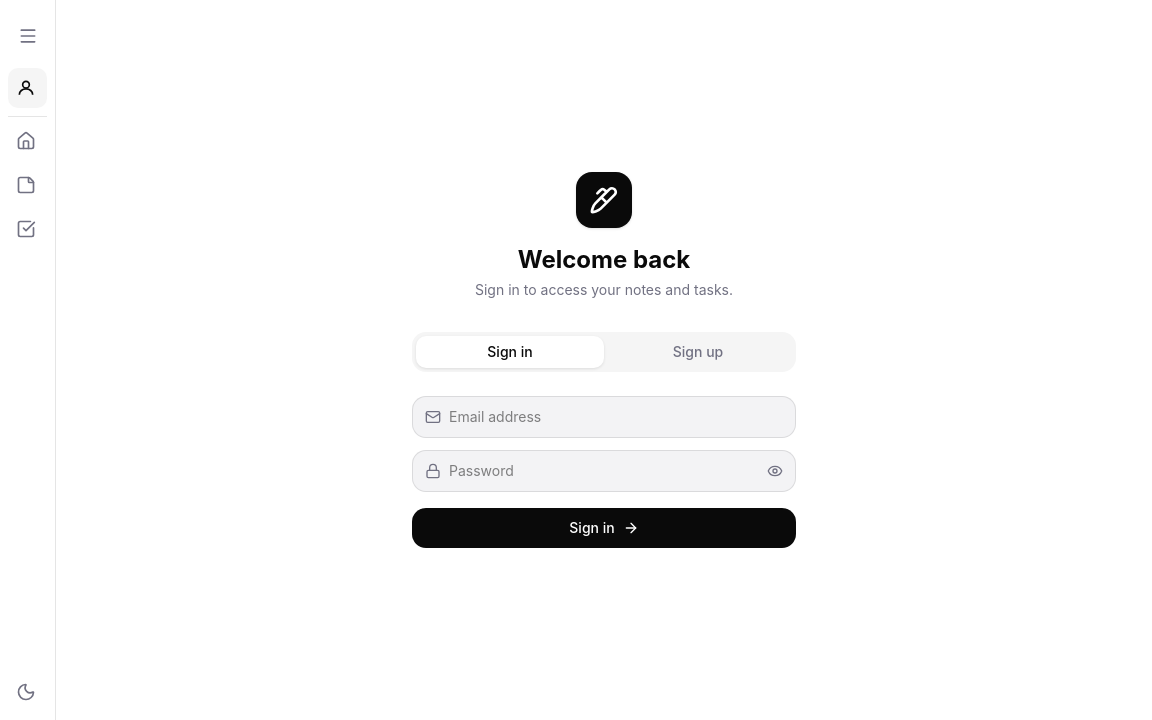
Test: account screen path › lets a user sign in, view account details, and sign out
Expected: the heading "Welcome back" is shown, [518,245,690,274]
In the field with placeholder "Email address": {"x": 616, "y": 417} [449,397,783,437], type "chat@gmail.com"
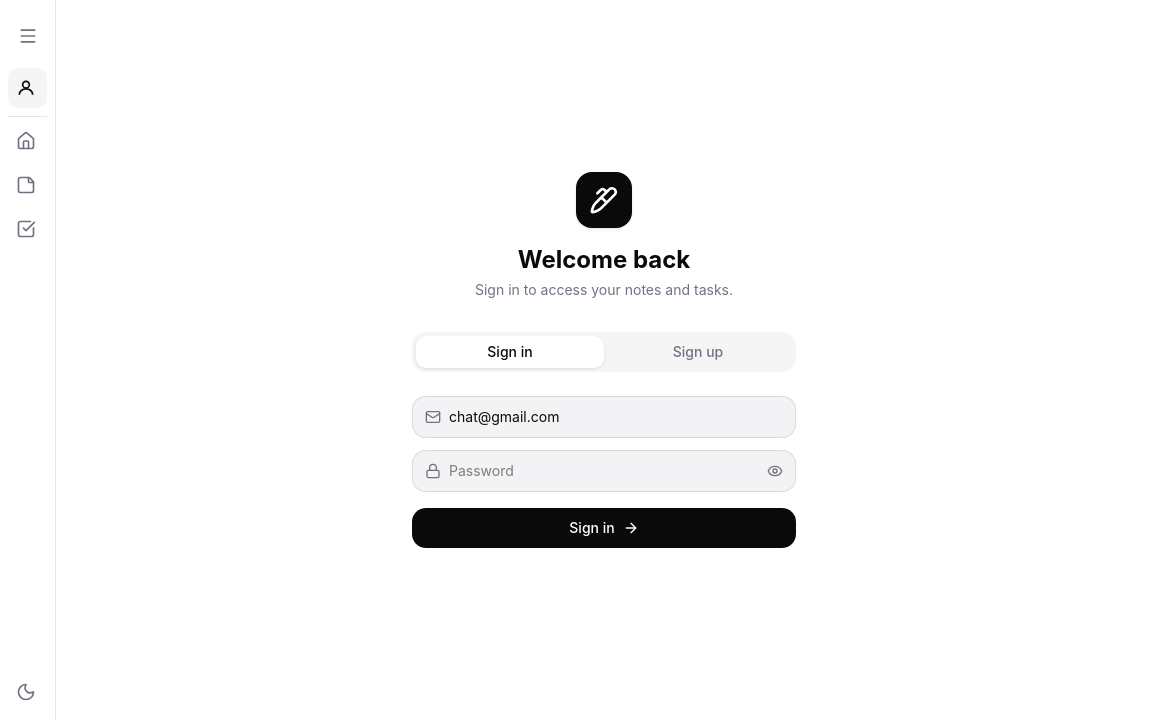
In the password field with placeholder "Password": {"x": 604, "y": 471} [449,451,759,491], type "chatchat"
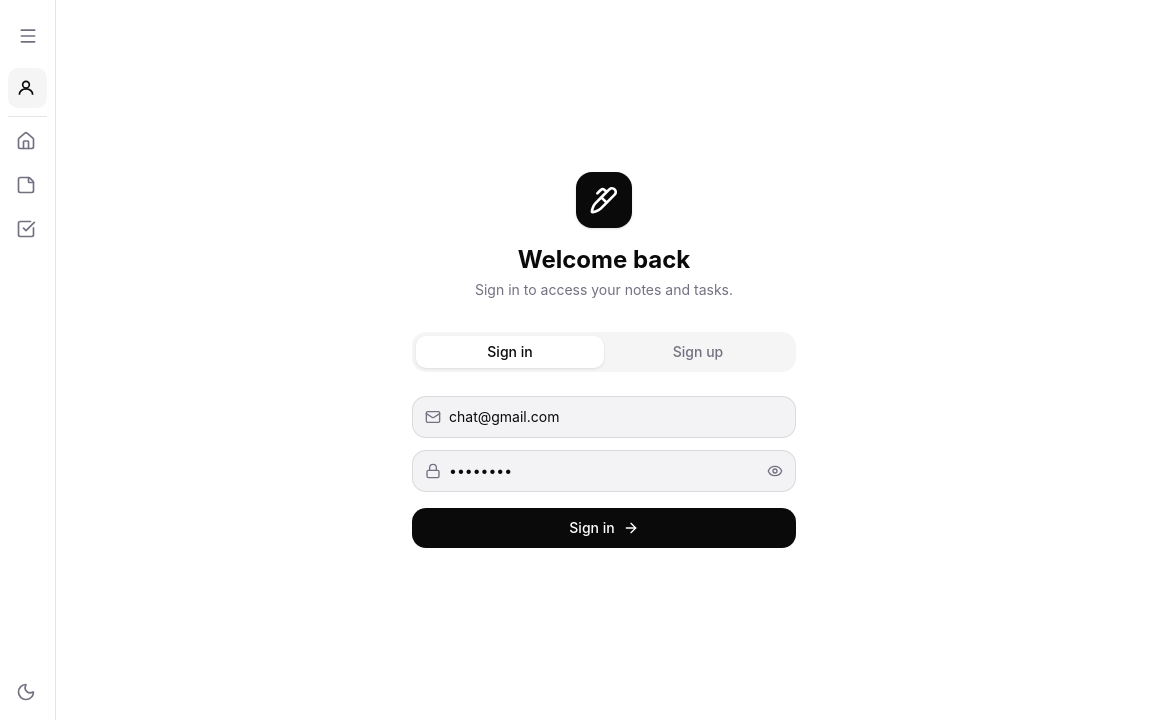
Click the submit button: {"x": 604, "y": 528} [412,508,796,548]
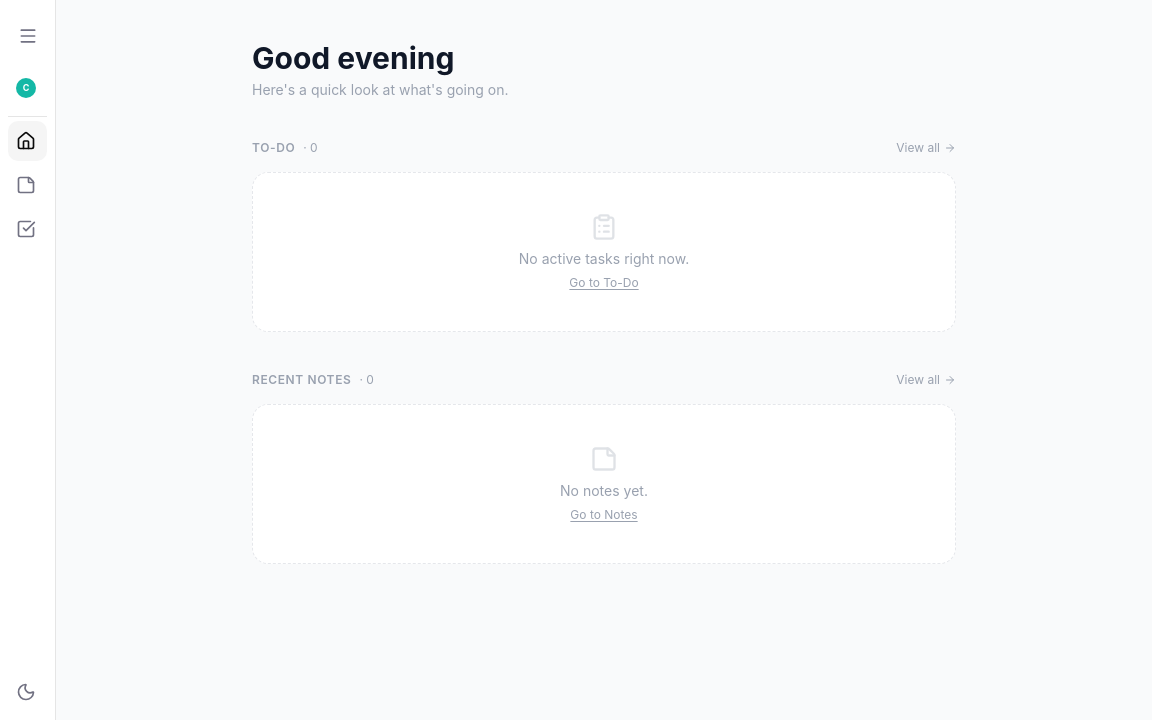
Result: the text "Here's a quick look at what's going on." is shown at [252,81,508,98]
Open "http://localhost:5173/account"
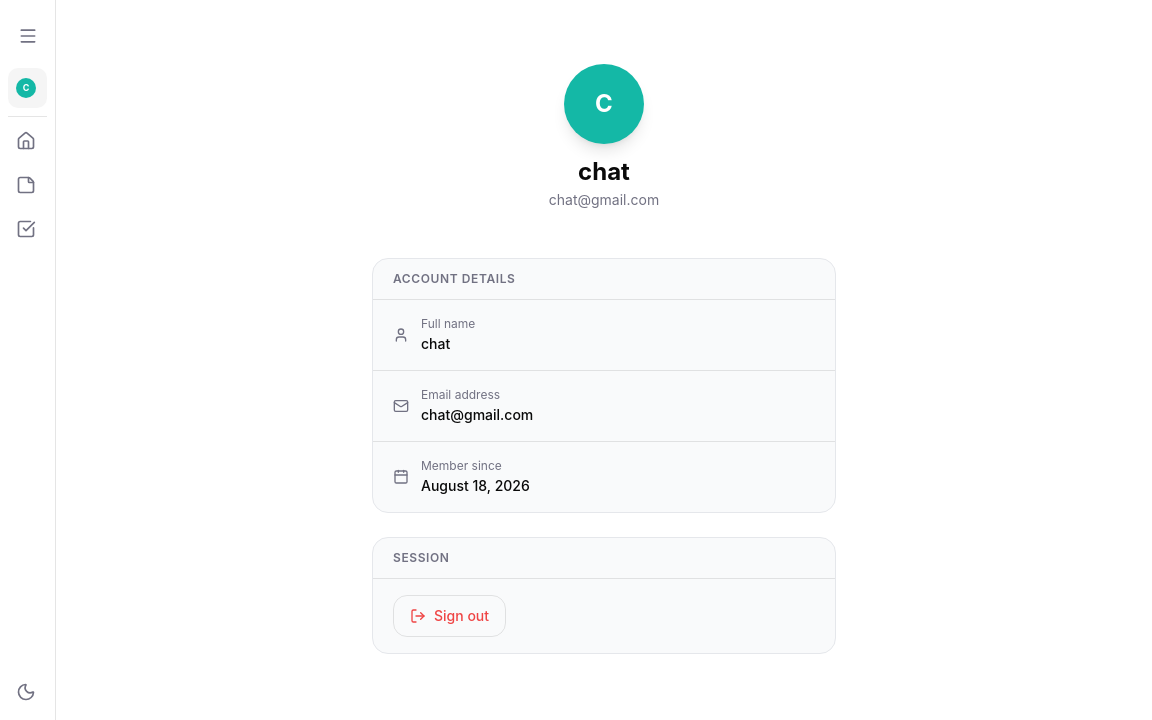
Result: the heading "Account Details" is shown at [393,271,516,286]
Result: the heading "chat" is shown at [578,157,630,186]
Result: the 1st text "chat@gmail.com" is shown at [549,190,659,210]
Click the button "Sign out": {"x": 450, "y": 616} [393,595,506,637]
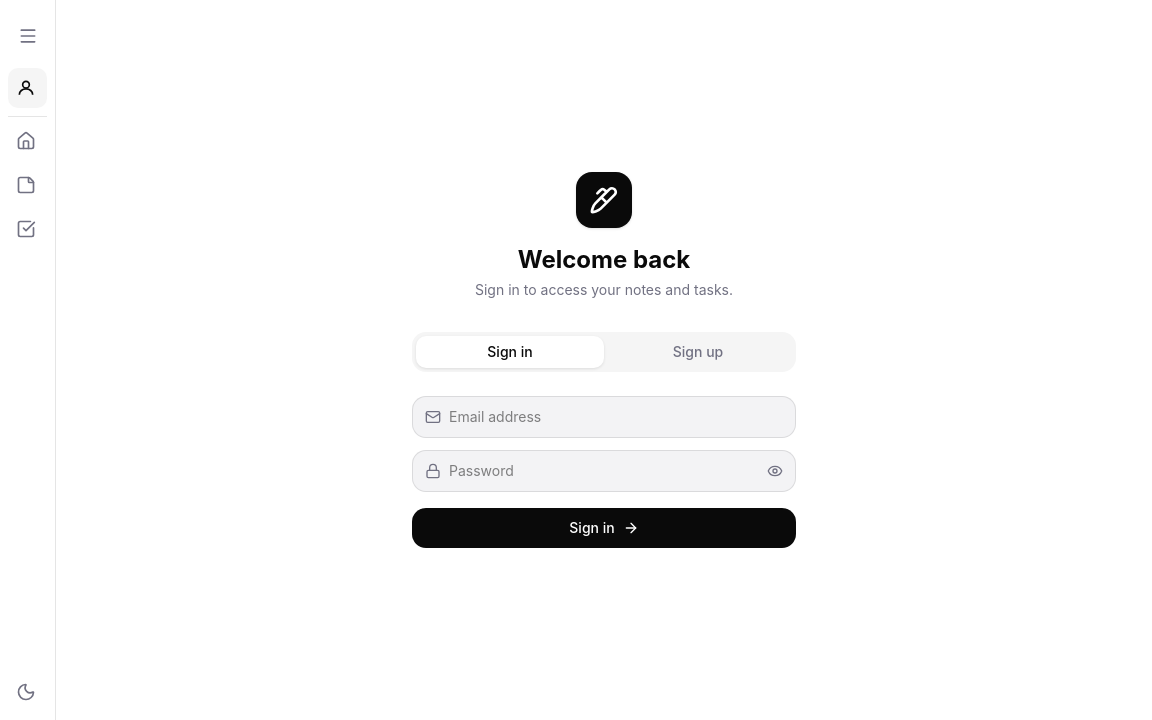
Result: the heading "Welcome back" is shown at [518,245,690,274]
